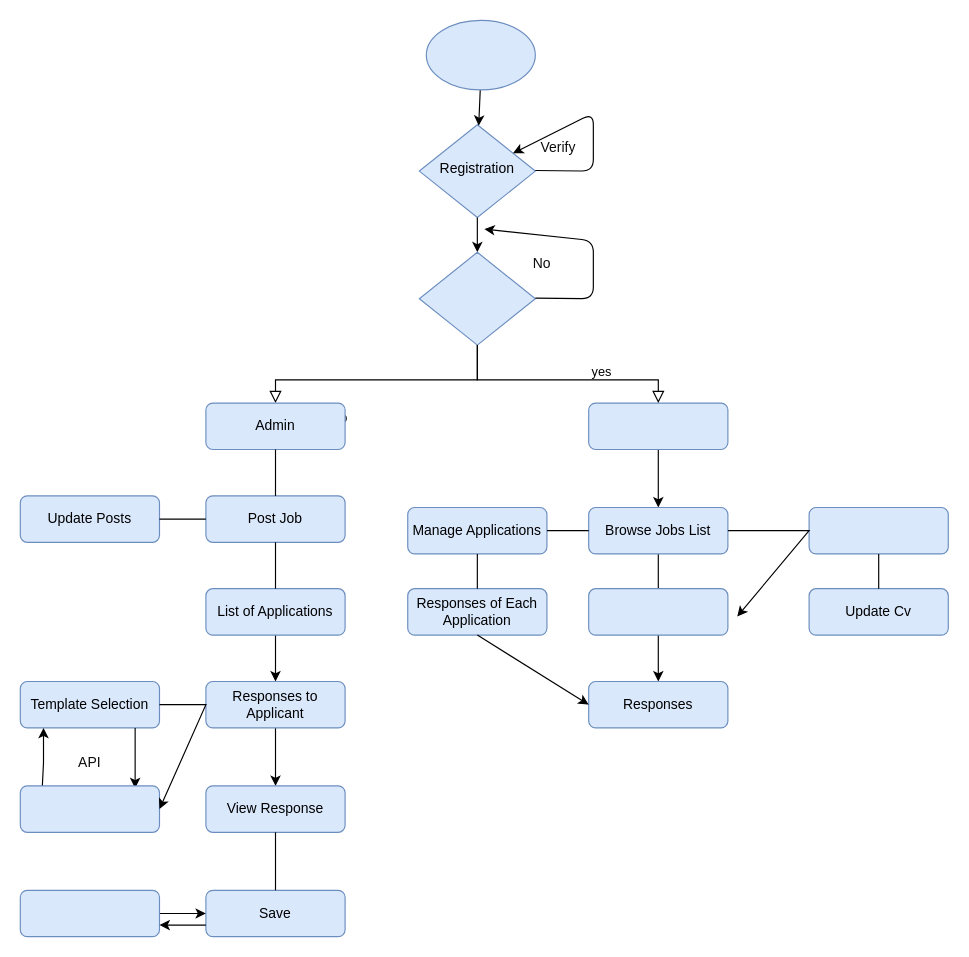
This 969x957 diagram has some shape labels left out. The box of each missing label's shape, as (x1, y1, x2, y2) in pixels:
Applicant: (588, 402, 728, 449)
Apply: (588, 588, 728, 635)
Automatic Email: (19, 889, 160, 937)
Feedback Response: (19, 785, 160, 832)
Home: (425, 19, 535, 90)
Log in: (418, 251, 535, 345)
Update Profile: (808, 506, 948, 554)
